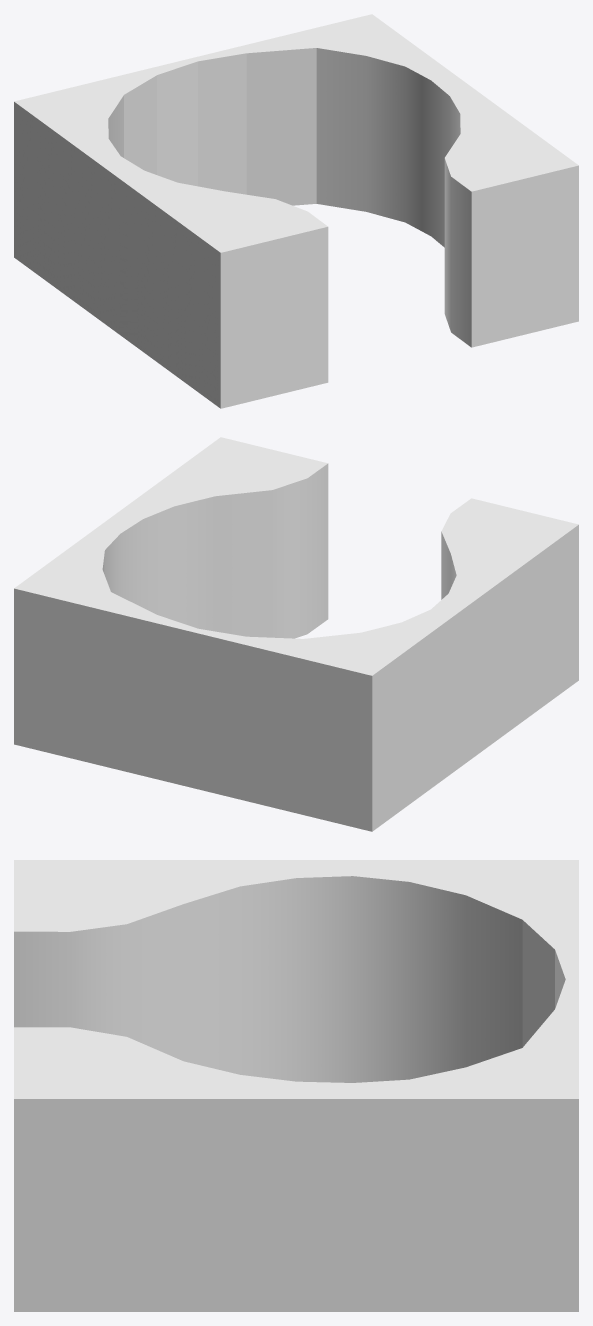
The model's file is invisiblewall startgoll.fbx.
The picture shows the model from 3 angles, top to bottom: view 1: azimuth 30°, elevation 25°; view 2: azimuth 150°, elevation 25°; view 3: azimuth 270°, elevation 25°; orthographic projection. The views are drawn at different scales.
Parts seen in each view (by area): view 1: start_goll:pCube1; view 2: start_goll:pCube1; view 3: start_goll:pCube1.
Part boxes in pixels (x1=…): start_goll:pCube1: x1=14, y1=14, x2=578, y2=408; start_goll:pCube1: x1=14, y1=437, x2=578, y2=831; start_goll:pCube1: x1=14, y1=860, x2=578, y2=1311.
Size of the model in its own units: 24.03 by 10 by 24.03.
1 material, 1 textured.
